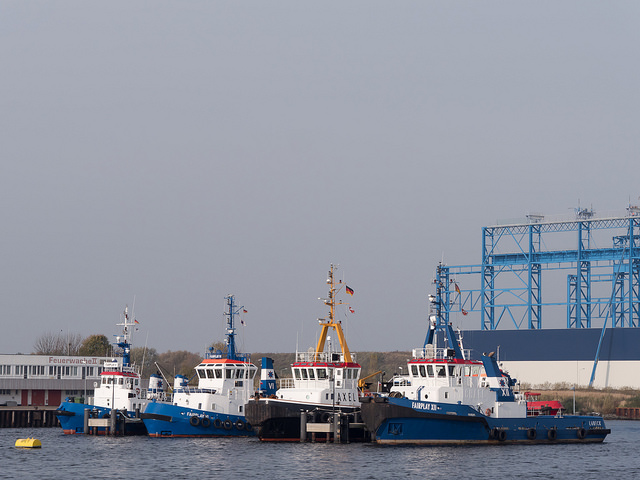tug_boat: (367, 268, 615, 448), (254, 292, 366, 446), (149, 316, 248, 439), (55, 338, 140, 438)
